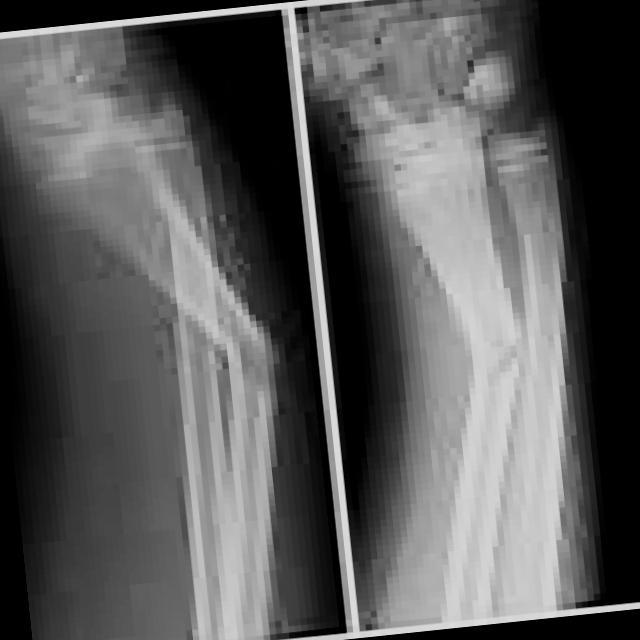spiral fracture: (469, 318, 522, 400), (222, 317, 275, 389)
